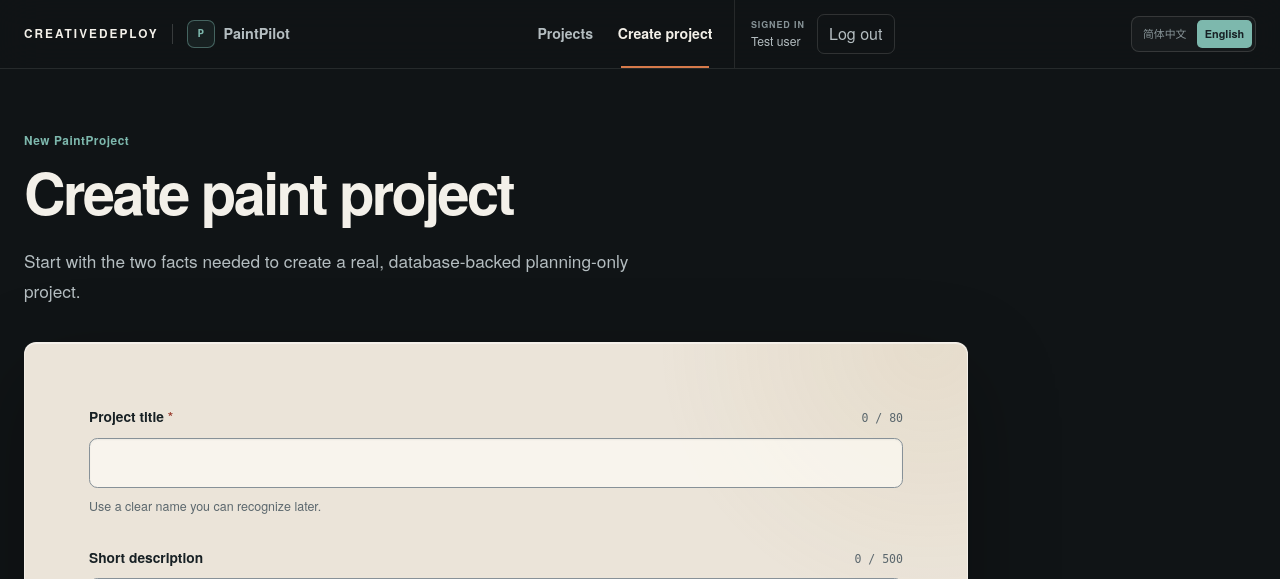
Create PaintProject workflow › starts a new protected attempt after an edit or a 409 conflict
The width and height of the screenshot is (1280, 579).
Type "First values" into the field labelled "Project title *".
click(496, 463); type("First values")  # box [89,438,903,488]
(page scrolled)
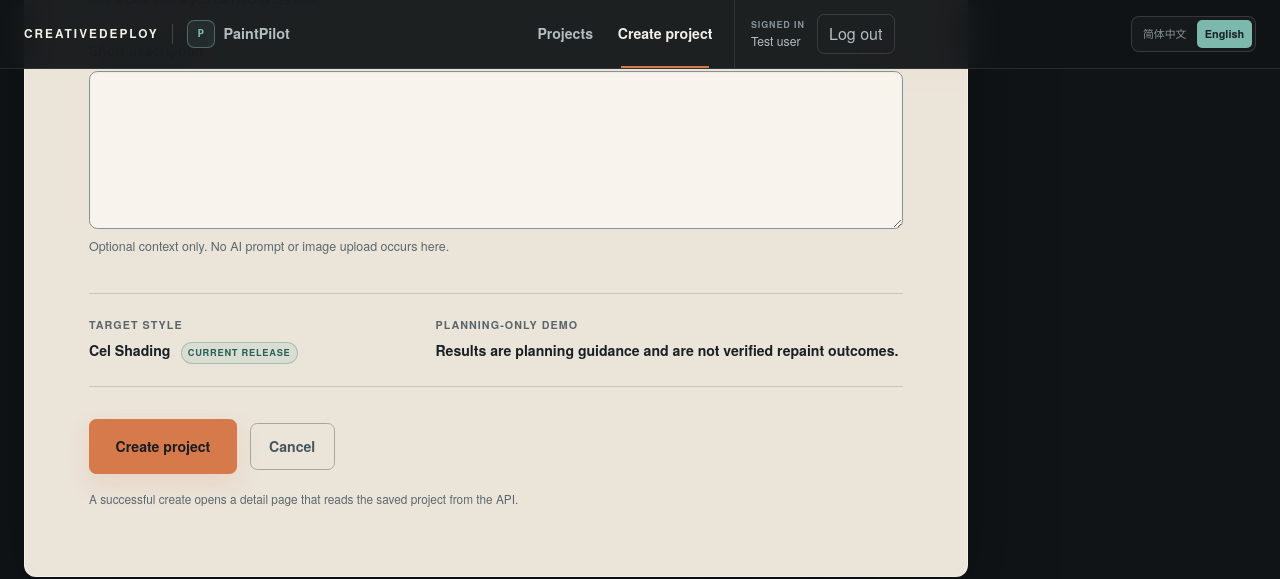
Click the button "Create project".
click(163, 446)  # box [89,419,237,474]
(page scrolled)
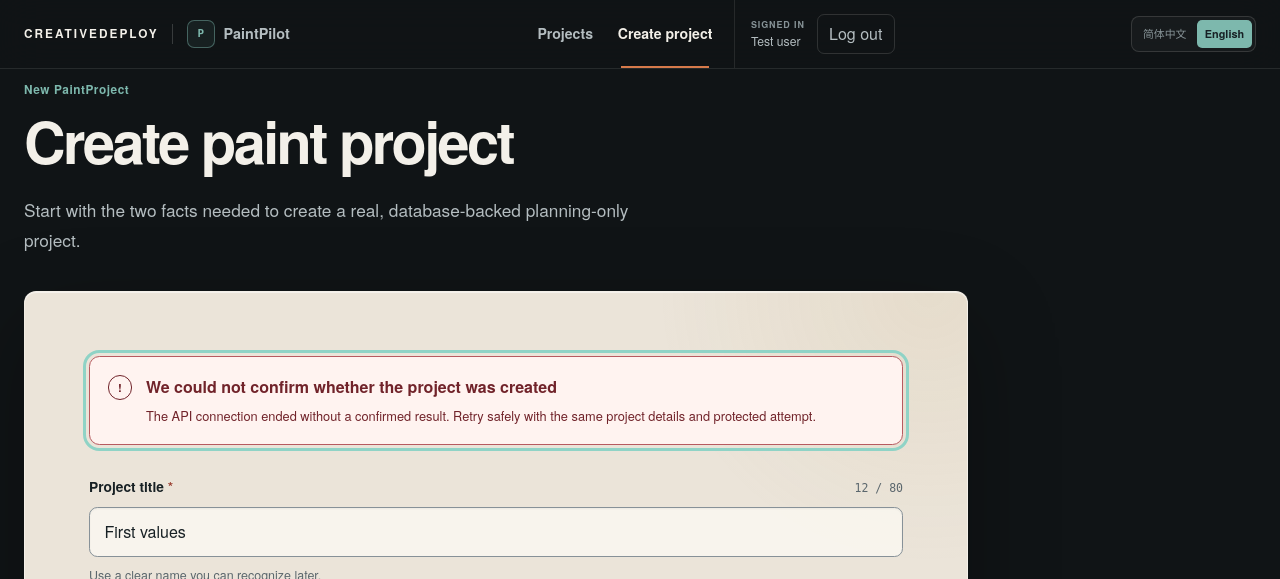
Expected: the heading "We could not confirm whether the project was created" is shown, [146,375,557,398]
Type " changed" into the field labelled "Project title *".
click(496, 532); type(" changed")  # box [89,507,903,557]
(page scrolled)
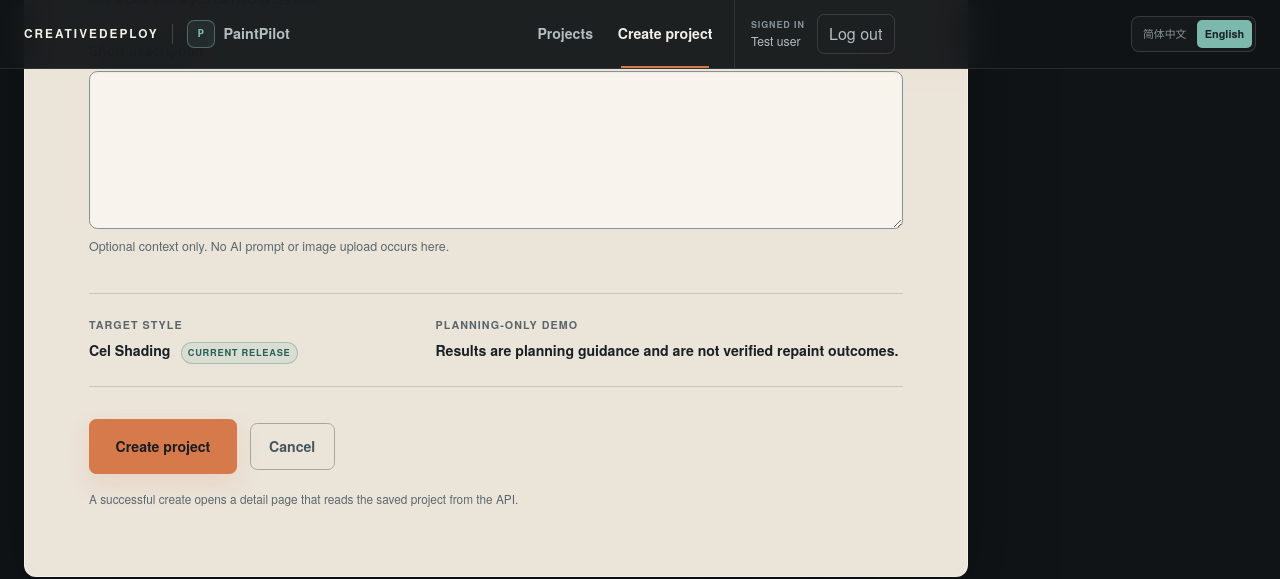
Click the button "Create project".
click(163, 446)  # box [89,419,237,474]
(page scrolled)
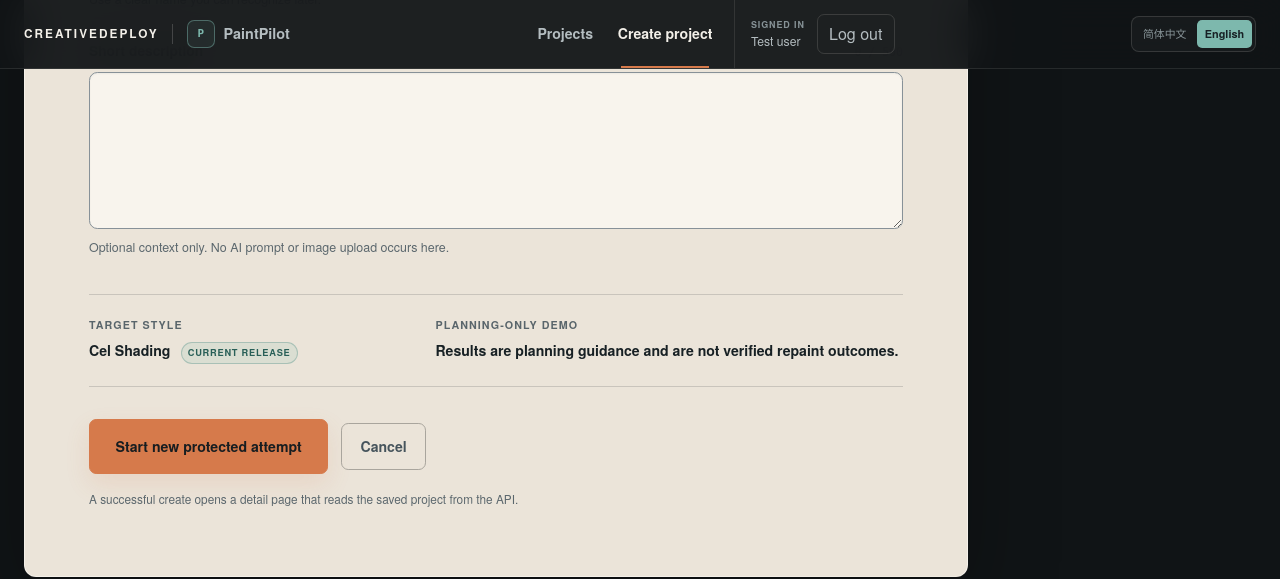
Click the button "Start new protected attempt".
click(209, 446)  # box [89,419,328,474]
(page scrolled)
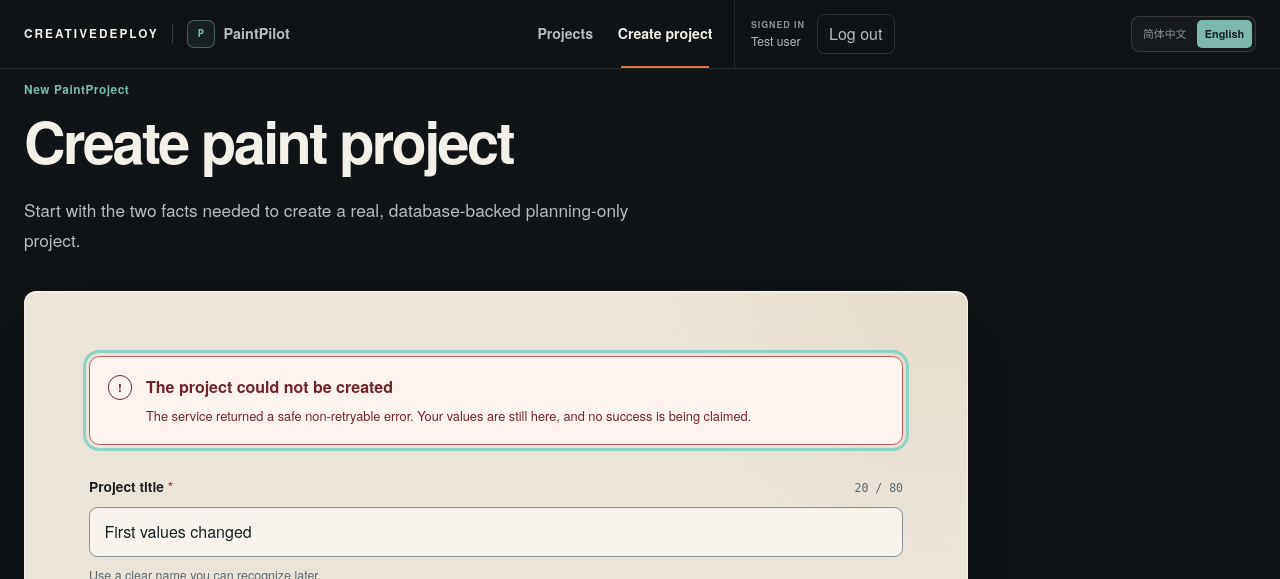
Expected: the heading "The project could not be created" is shown, [146,375,393,398]
